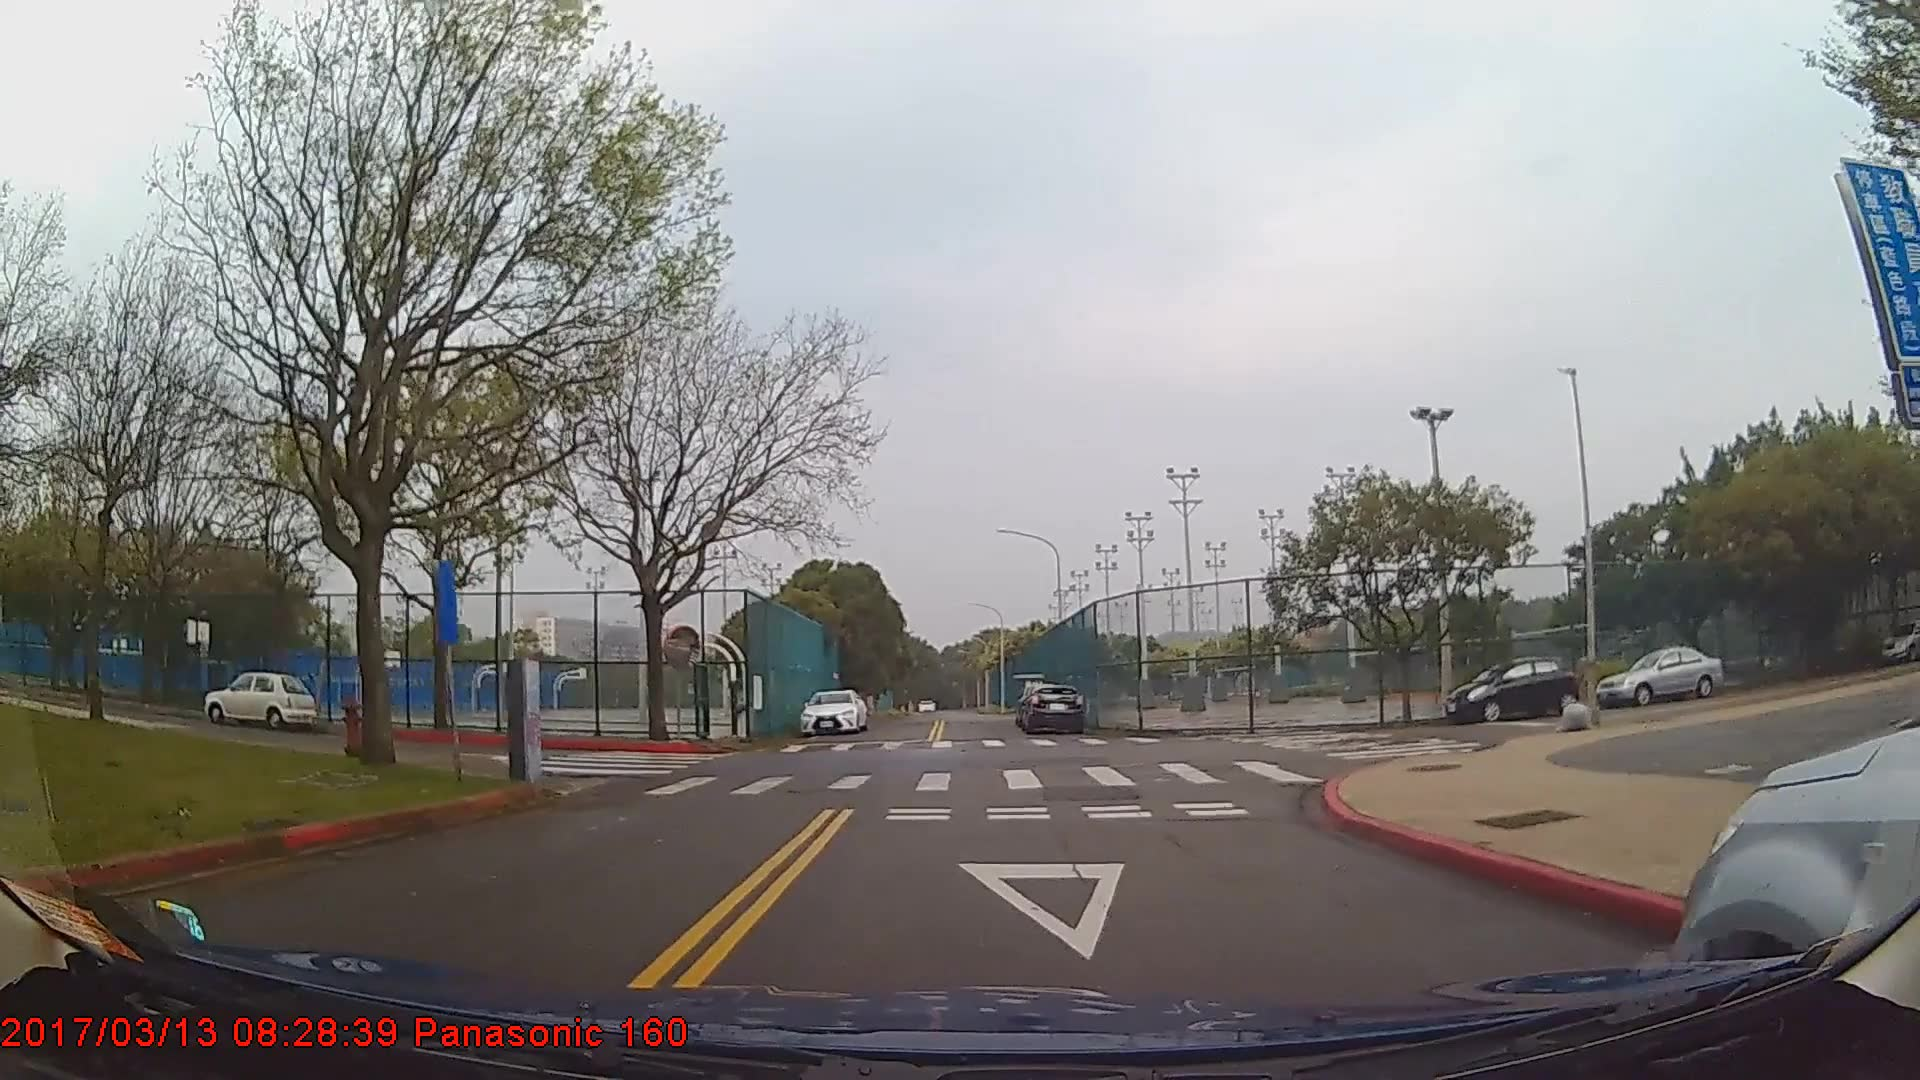vehicle: (1443, 657, 1576, 723), (1596, 644, 1725, 707), (203, 665, 316, 725), (1018, 680, 1085, 735), (796, 687, 866, 737), (1880, 618, 1920, 661)
